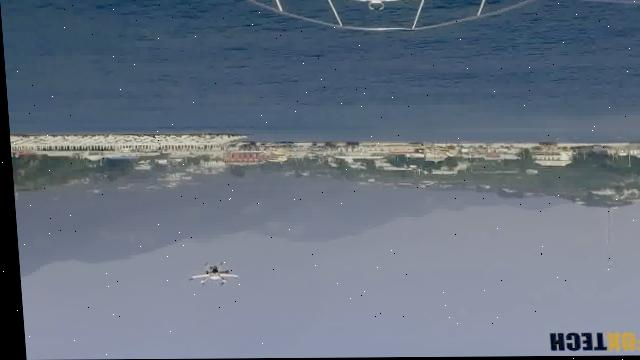drone: (180, 257, 238, 295)
